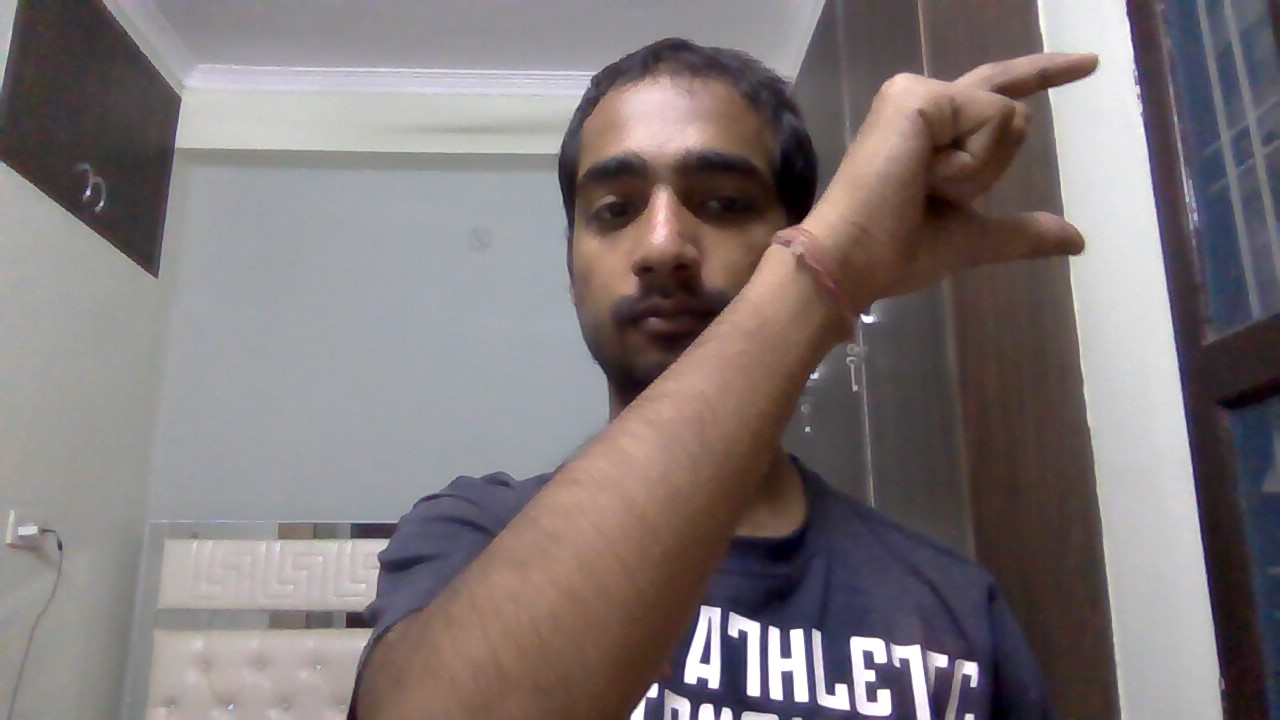Paste: (802, 38, 1107, 301)
